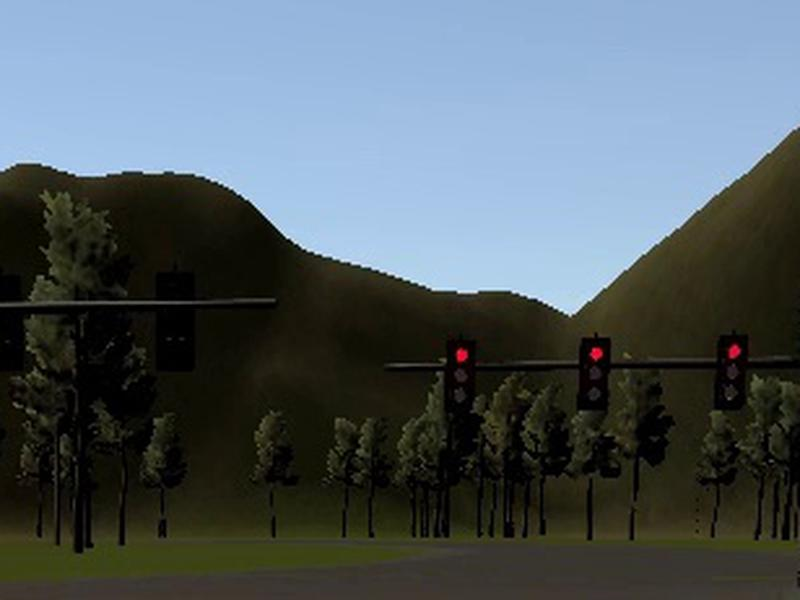Red: (714, 334, 749, 411), (576, 338, 612, 409), (444, 337, 478, 410)
